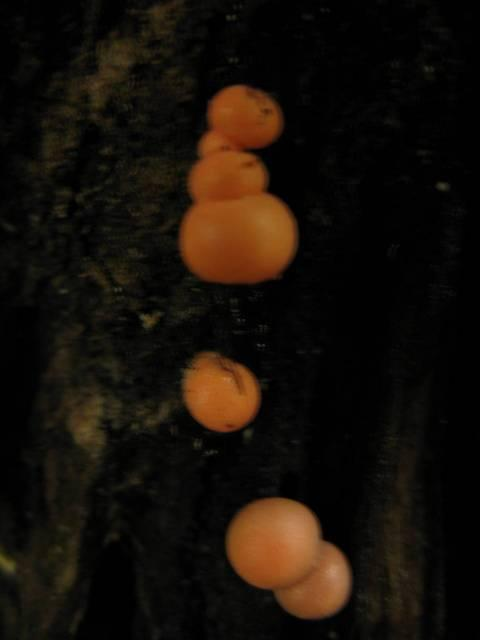Non-edible Mushroom: (177, 82, 299, 285), (178, 191, 298, 285), (224, 495, 321, 589), (180, 349, 262, 434), (272, 539, 352, 620), (206, 82, 284, 149), (186, 149, 269, 202)
